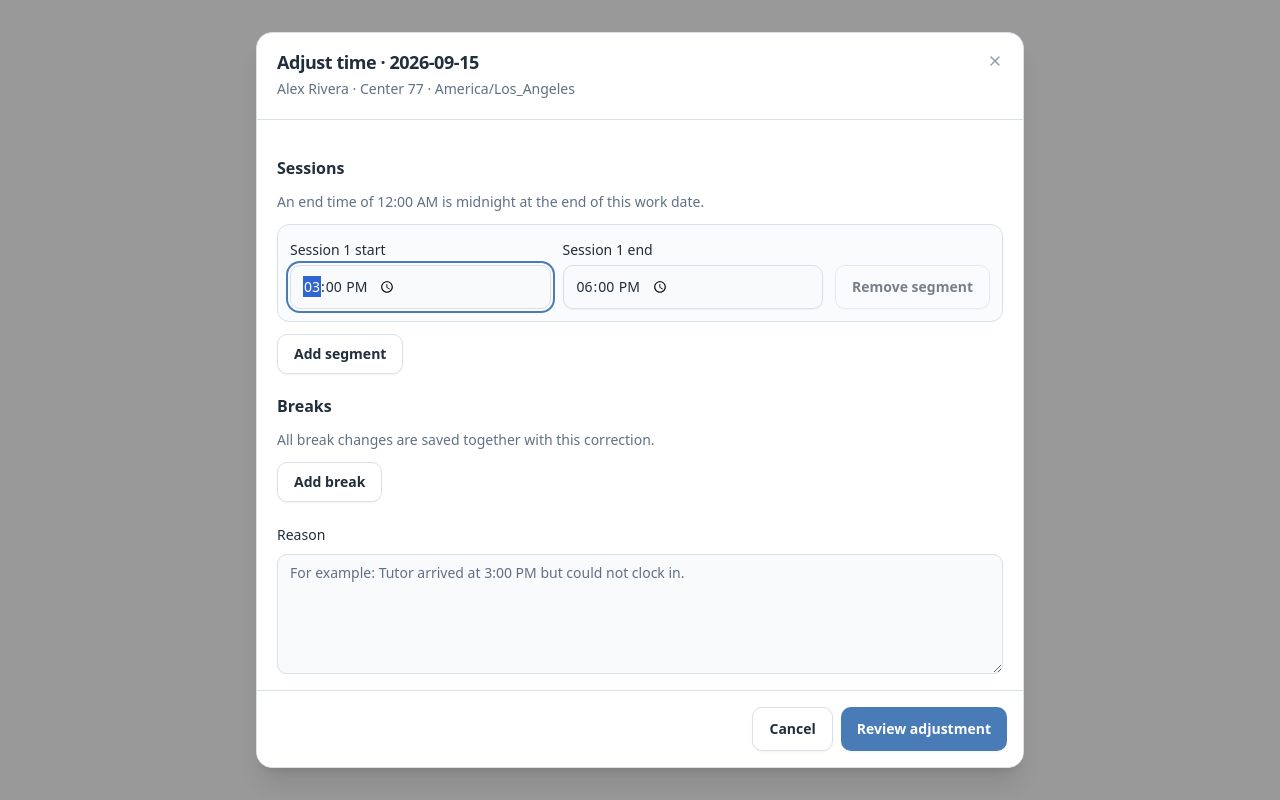
it: a stale preview retains edits and requires re-review against a fresh revision
This screenshot has width=1280, height=800.
Replace the text in the time field labelled "Session 1 end" with "18:15" at coordinates (693, 287), box [562, 265, 823, 309]
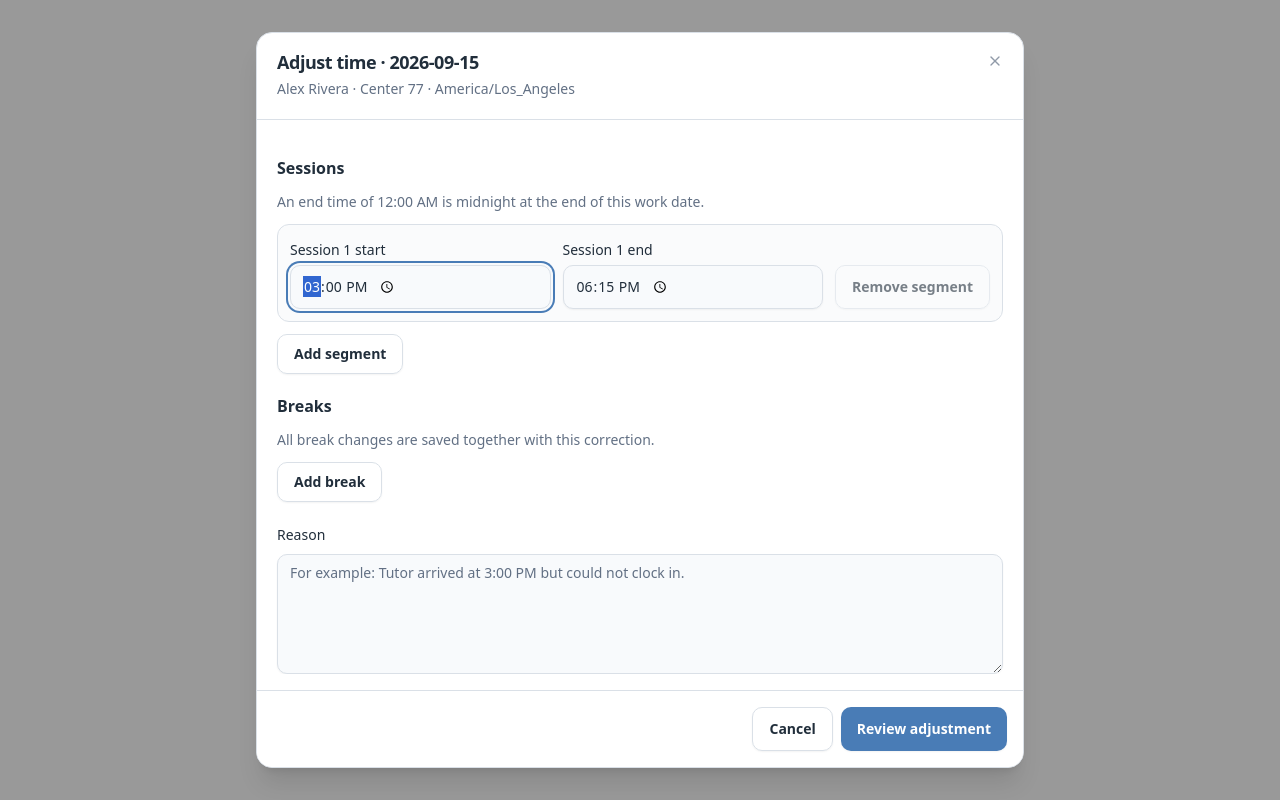
Replace the text in the text box labelled "Reason" with "Forgot to clock out" at coordinates (640, 614), box [277, 554, 1003, 674]
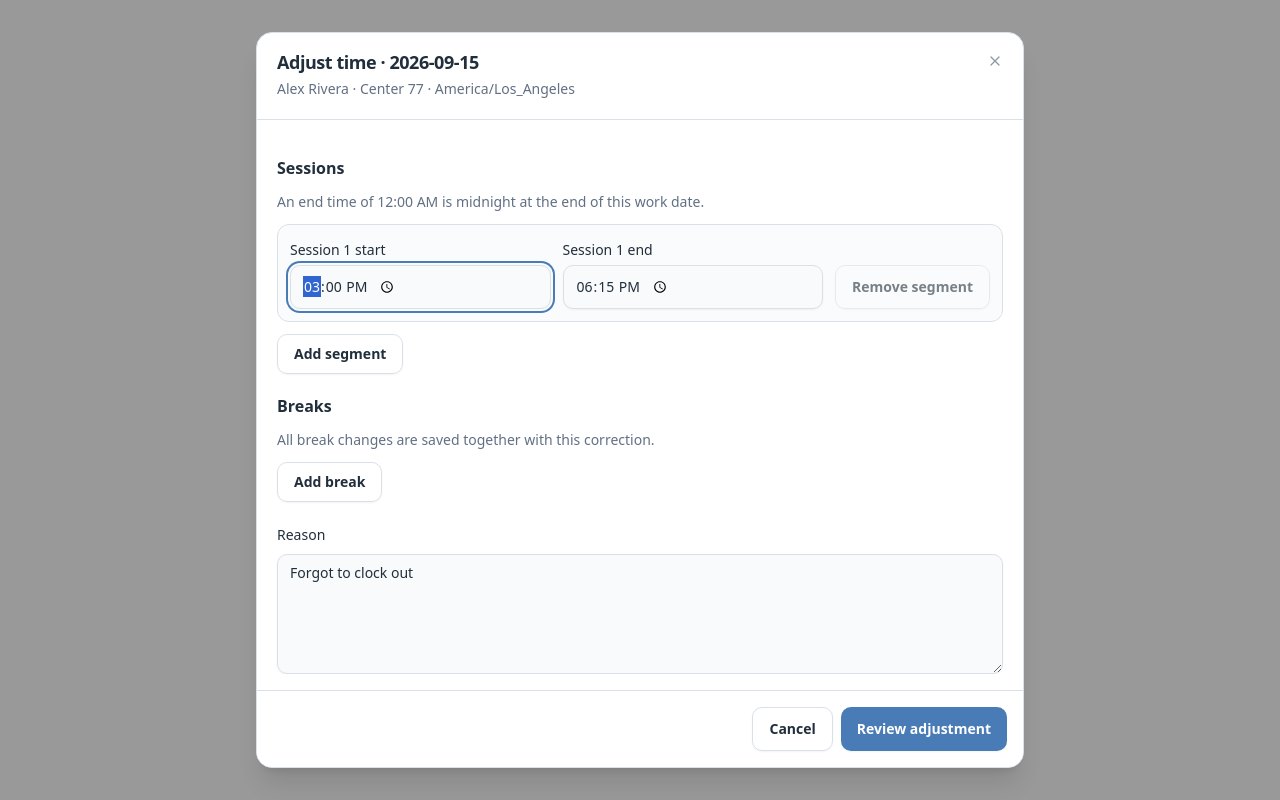
Click the button "Review adjustment".
click(924, 729)  # box [841, 707, 1007, 751]
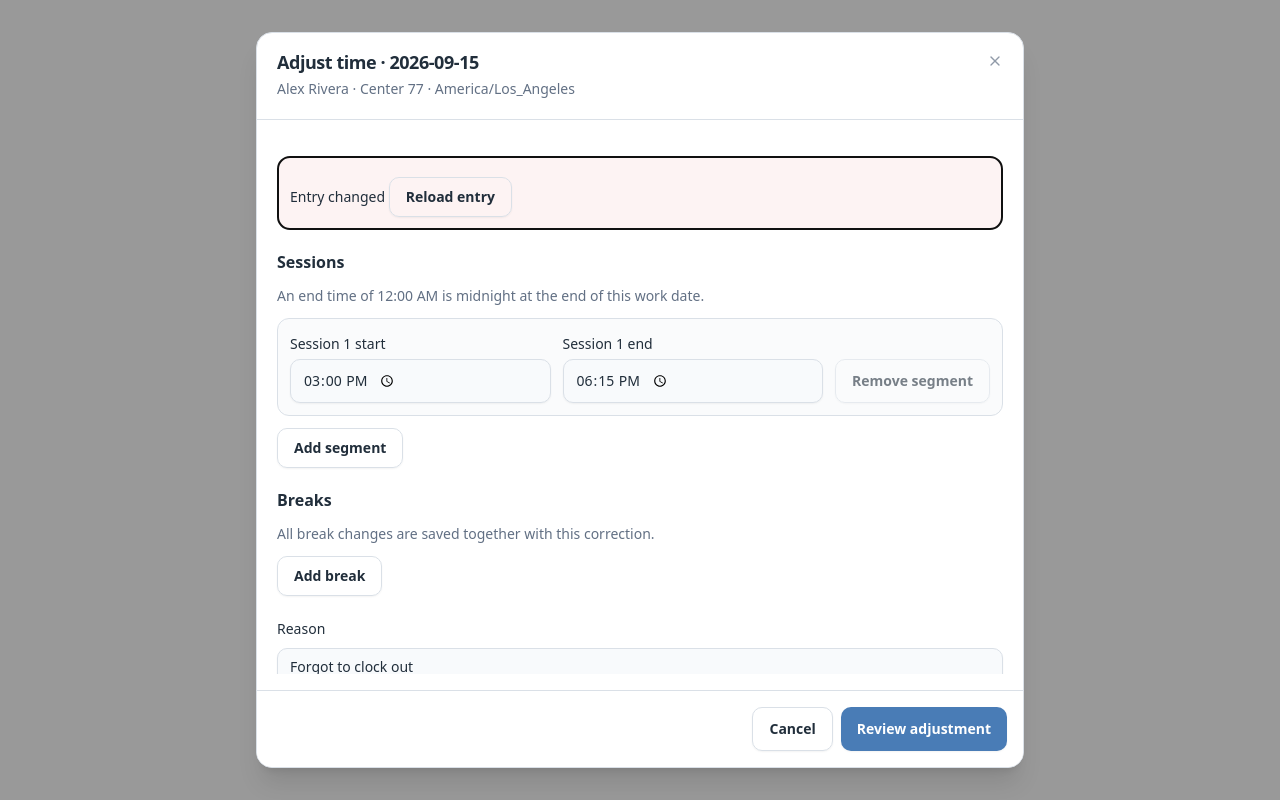
Click the button "Reload entry".
click(450, 197)  # box [389, 177, 512, 217]
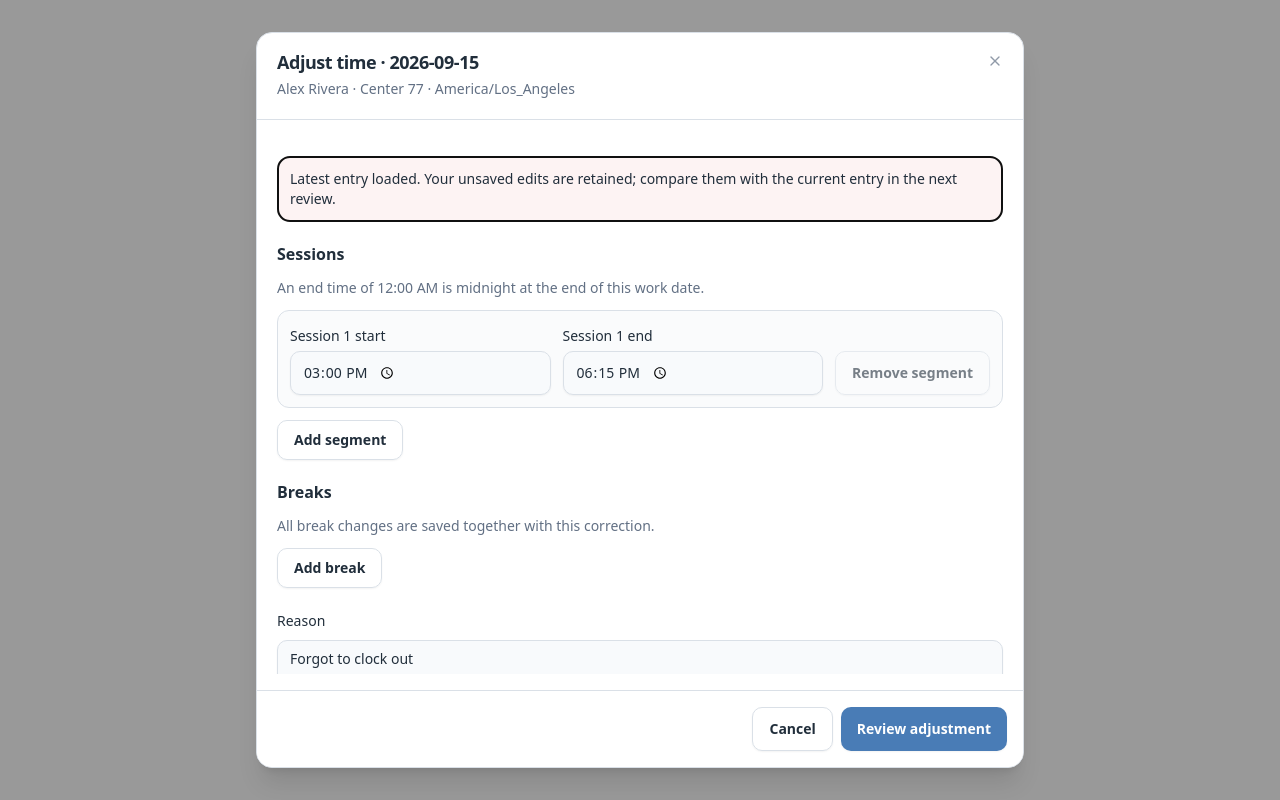
Expected: the text "Latest entry loaded" is shown, [290, 169, 957, 208]
Click the button "Review adjustment".
click(924, 729)  # box [841, 707, 1007, 751]
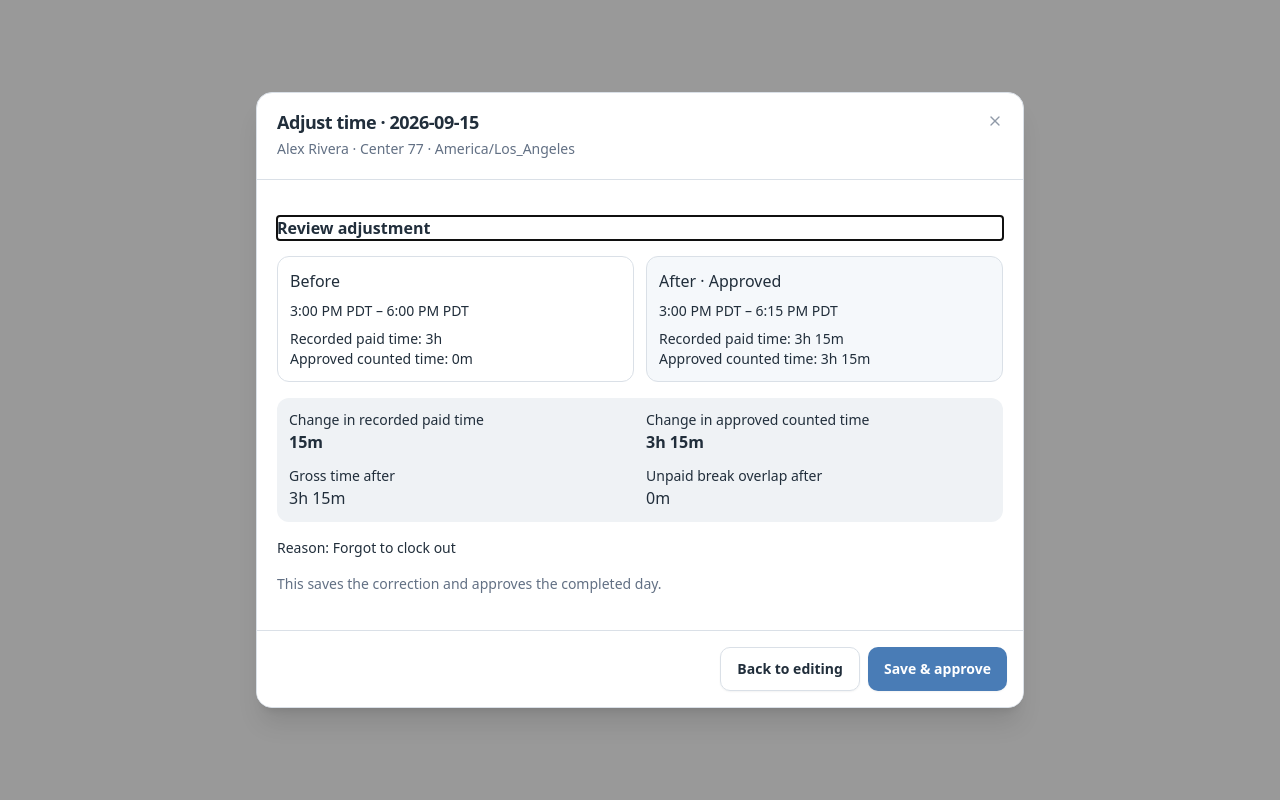
Expected: the button "Save & approve" is shown, [868, 647, 1007, 691]
